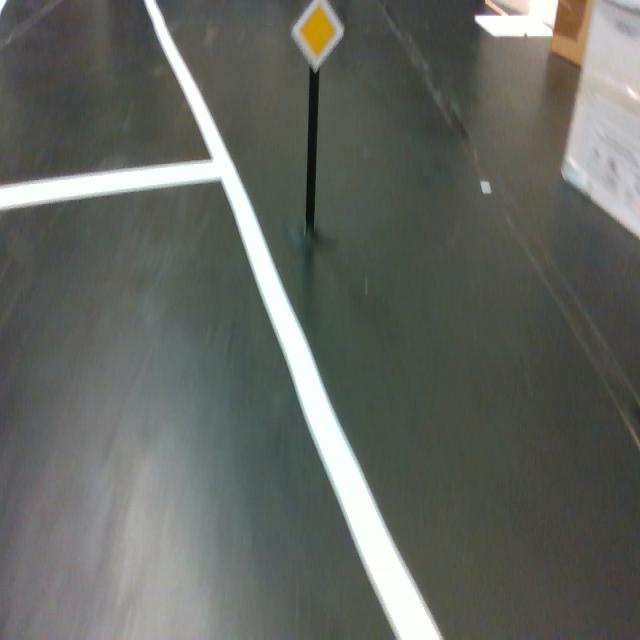priority-sign: (290, 0, 345, 73)
